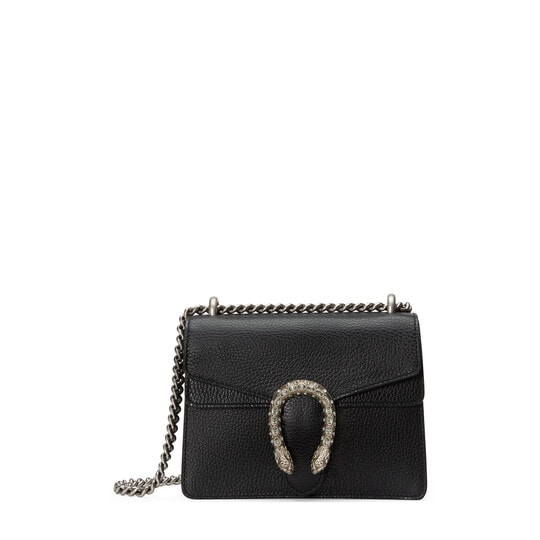Gucci: (138, 263, 451, 502), (255, 367, 344, 482)
